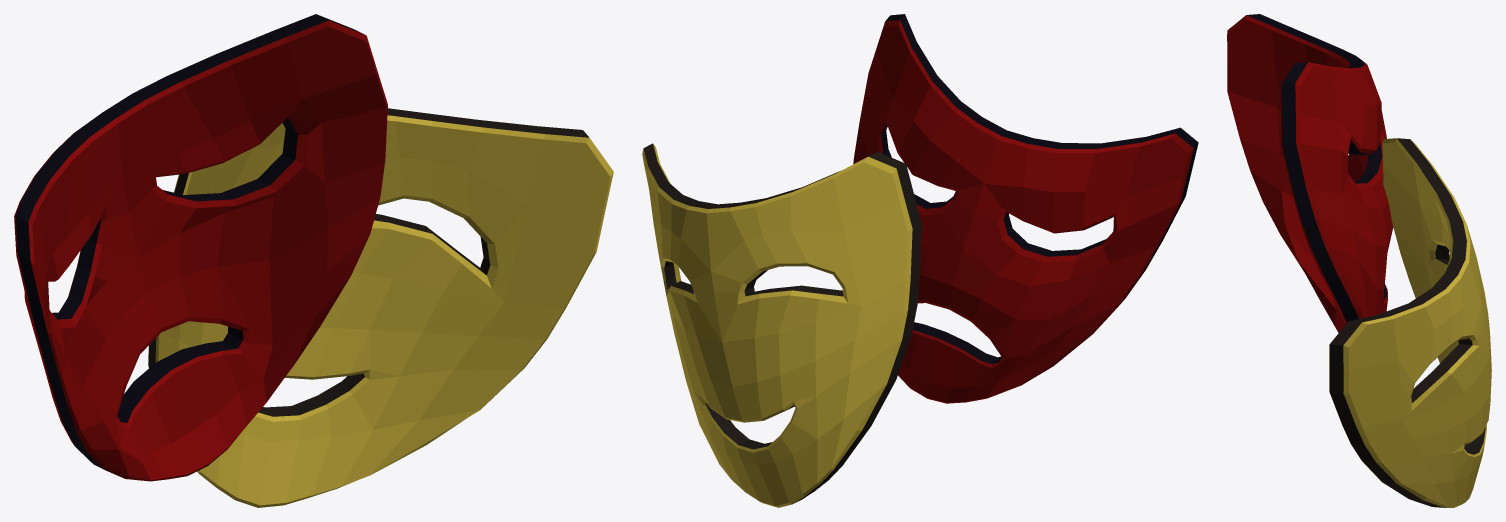
The model's file is Theatre masks.FBX.
The picture shows the model from 3 angles, left to right: view 1: azimuth 30°, elevation 25°; view 2: azimuth 150°, elevation 25°; view 3: azimuth 270°, elevation 25°; orthographic projection. The views are drawn at different scales.
Visible parts, largest first — view 1: Theatre masks; view 2: Theatre masks; view 3: Theatre masks.
Boxes of the visible parts, <box> form: Theatre masks: <box>14,14,613,507</box>; Theatre masks: <box>642,14,1198,507</box>; Theatre masks: <box>1227,14,1491,507</box>.
Bounding box in the file's own units: 1261 × 616 × 1061.
